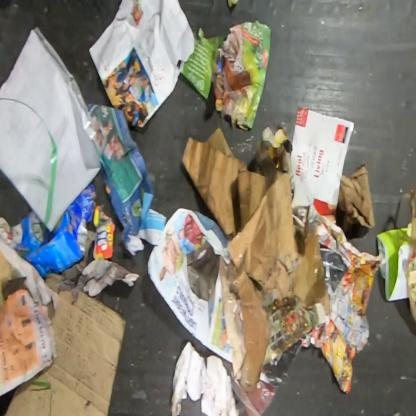cardboard: (3, 289, 128, 416), (181, 127, 266, 238), (14, 182, 98, 281), (289, 106, 354, 216)
soft_plastic: (376, 222, 413, 302)
